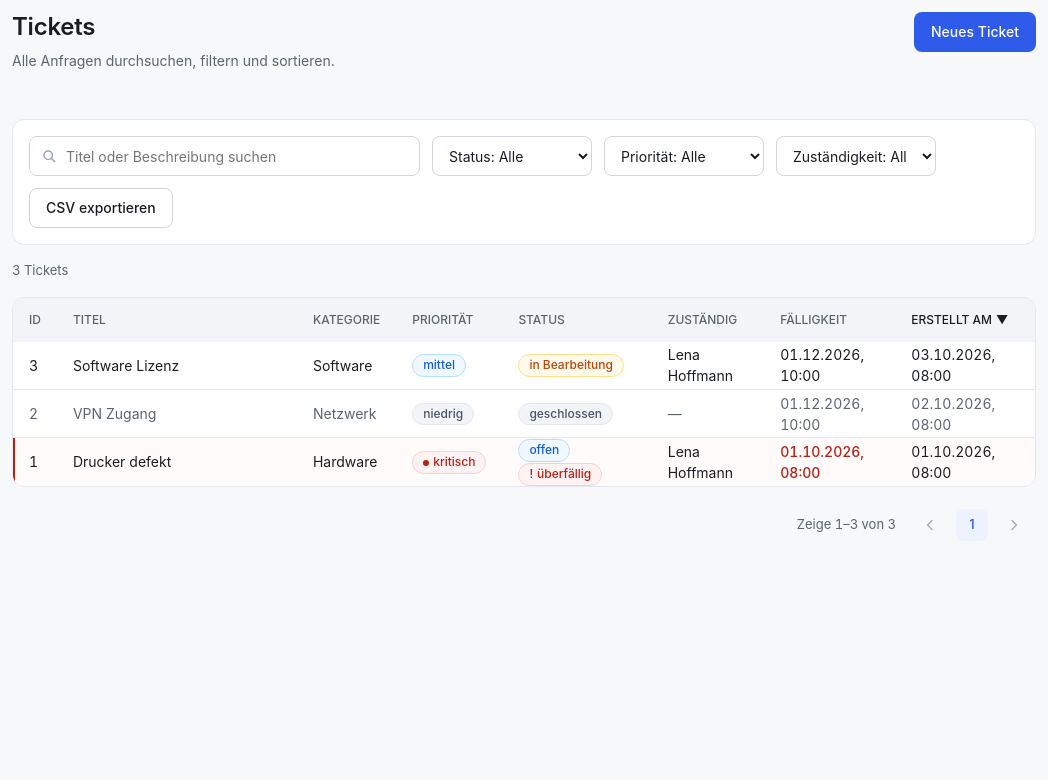
it: TicketsPage › shows the German empty state when no ticket matches
expect the text "Drucker defekt" is shown: met, box x1=57 y1=438 x2=297 y2=486
Type "gibtesnicht" into the search field labelled "Titel oder Beschreibung suchen".
click(224, 156); type("gibtesnicht")  # box x1=29 y1=136 x2=420 y2=176
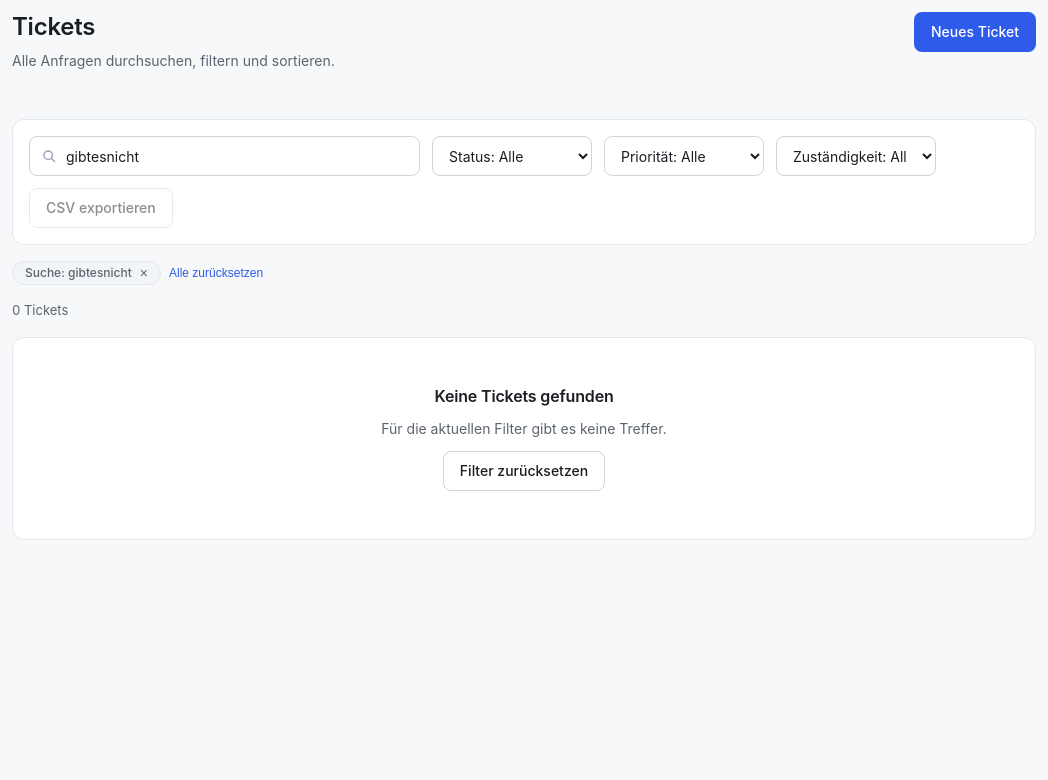
expect the heading "Keine Tickets gefunden" is shown: met, box x1=434 y1=386 x2=614 y2=406
expect the text "Für die aktuellen Filter gibt es keine Treffer." is shown: met, box x1=381 y1=418 x2=667 y2=438
expect the text "0 Tickets" is shown: met, box x1=12 y1=302 x2=68 y2=318
Click the button "Filter zurücksetzen".
click(524, 470)  # box x1=443 y1=450 x2=605 y2=490
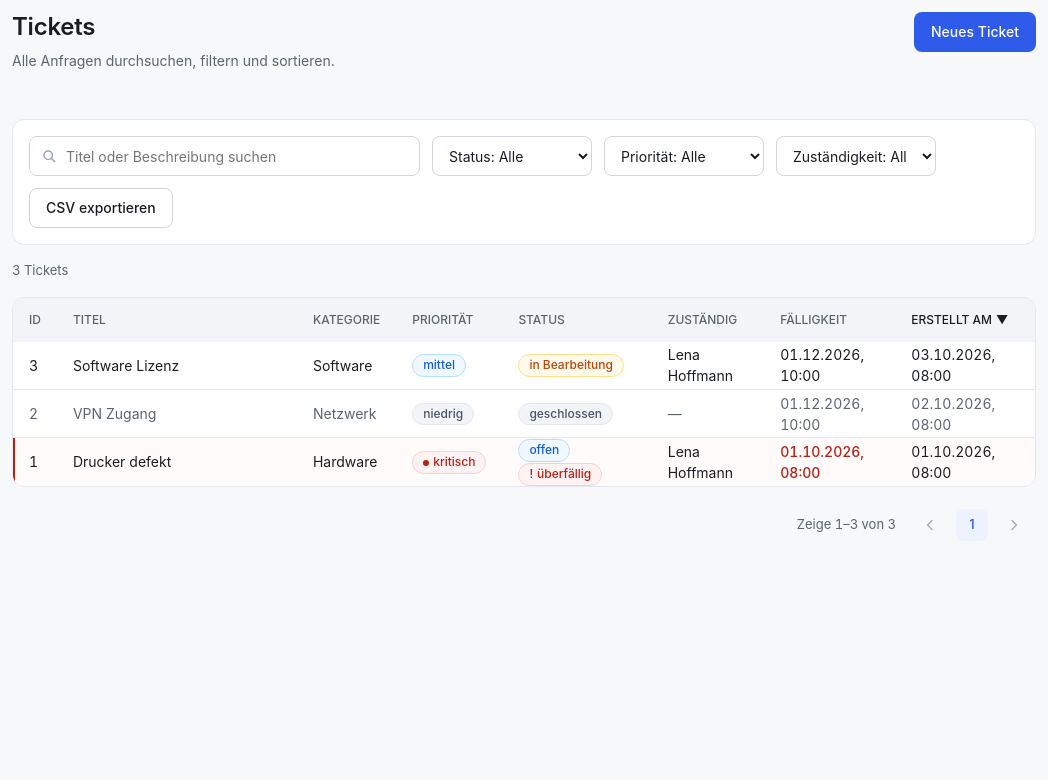
expect the text "Drucker defekt" is shown: met, box x1=57 y1=438 x2=297 y2=486
